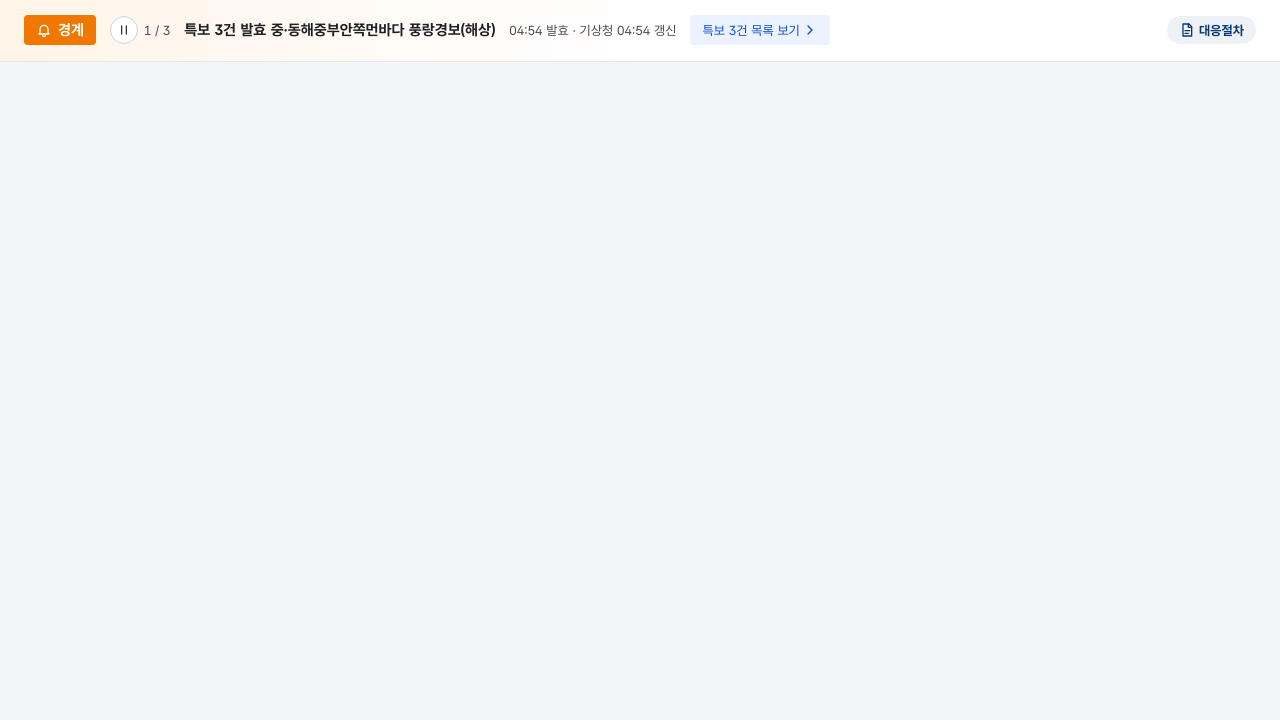
Scenario: 기상특보 상세 창 › [이 특보로 질의] — 그 특보와 받아 둔 통보문 목록을 넘기고 통합 탐색으로 옮겨 간다(기준지역은 바꾸지 않는다)
This screenshot has width=1280, height=720.
Step 1. Click the button with class "wxmore" → click(760, 30), box [690,15,830,45]
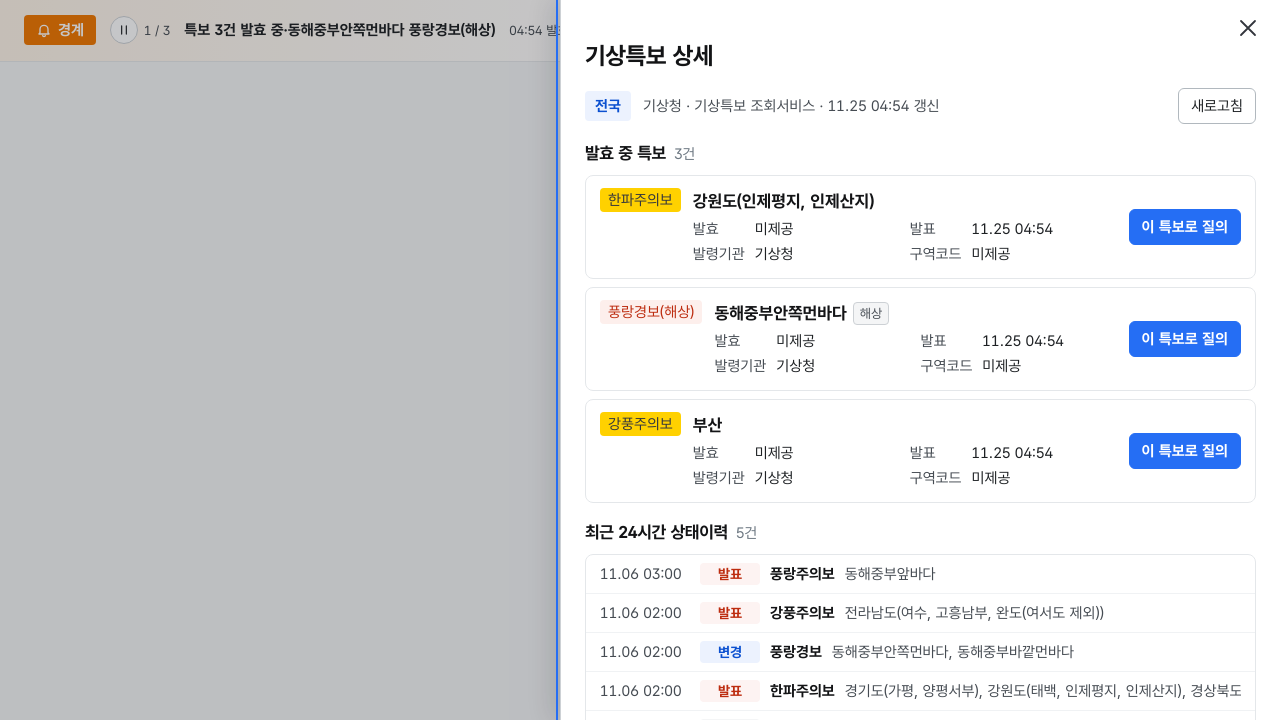
Step 2. Click the button "이 특보로 질의" below "강원도(인제평지, 인제산지)" → click(1185, 227), box [1129,209,1241,245]
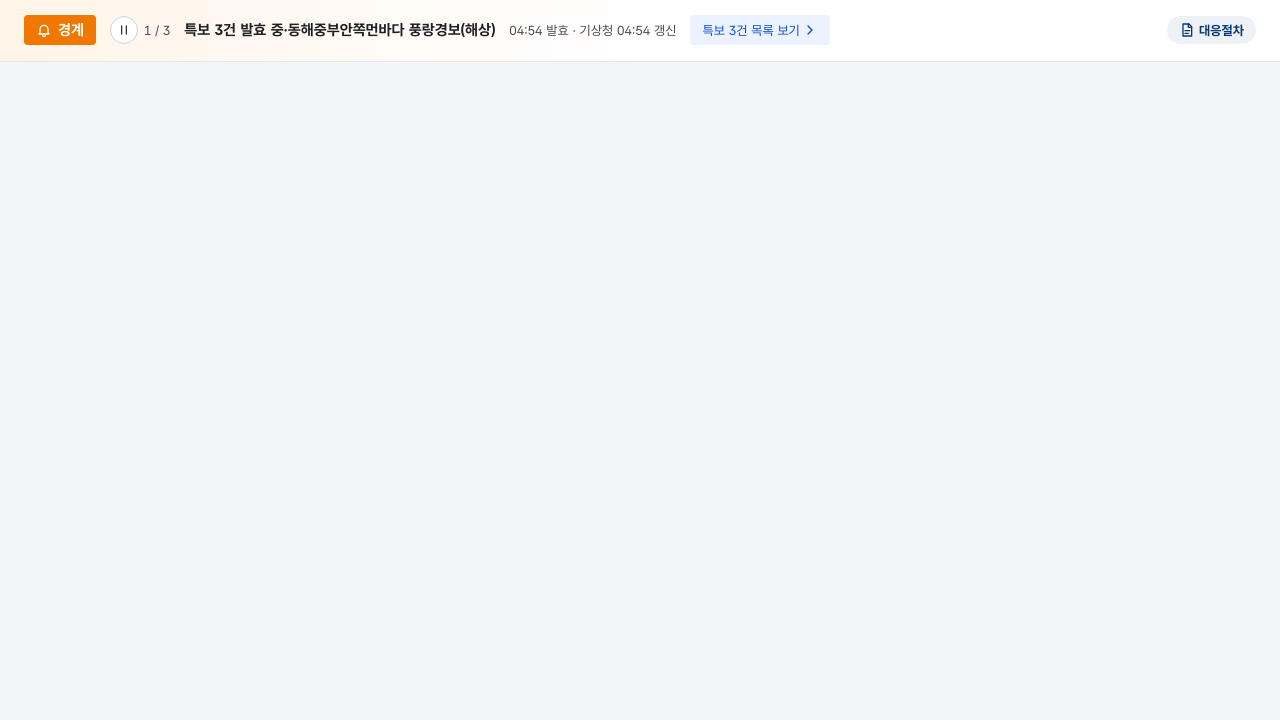
Check: the dialog is gone
